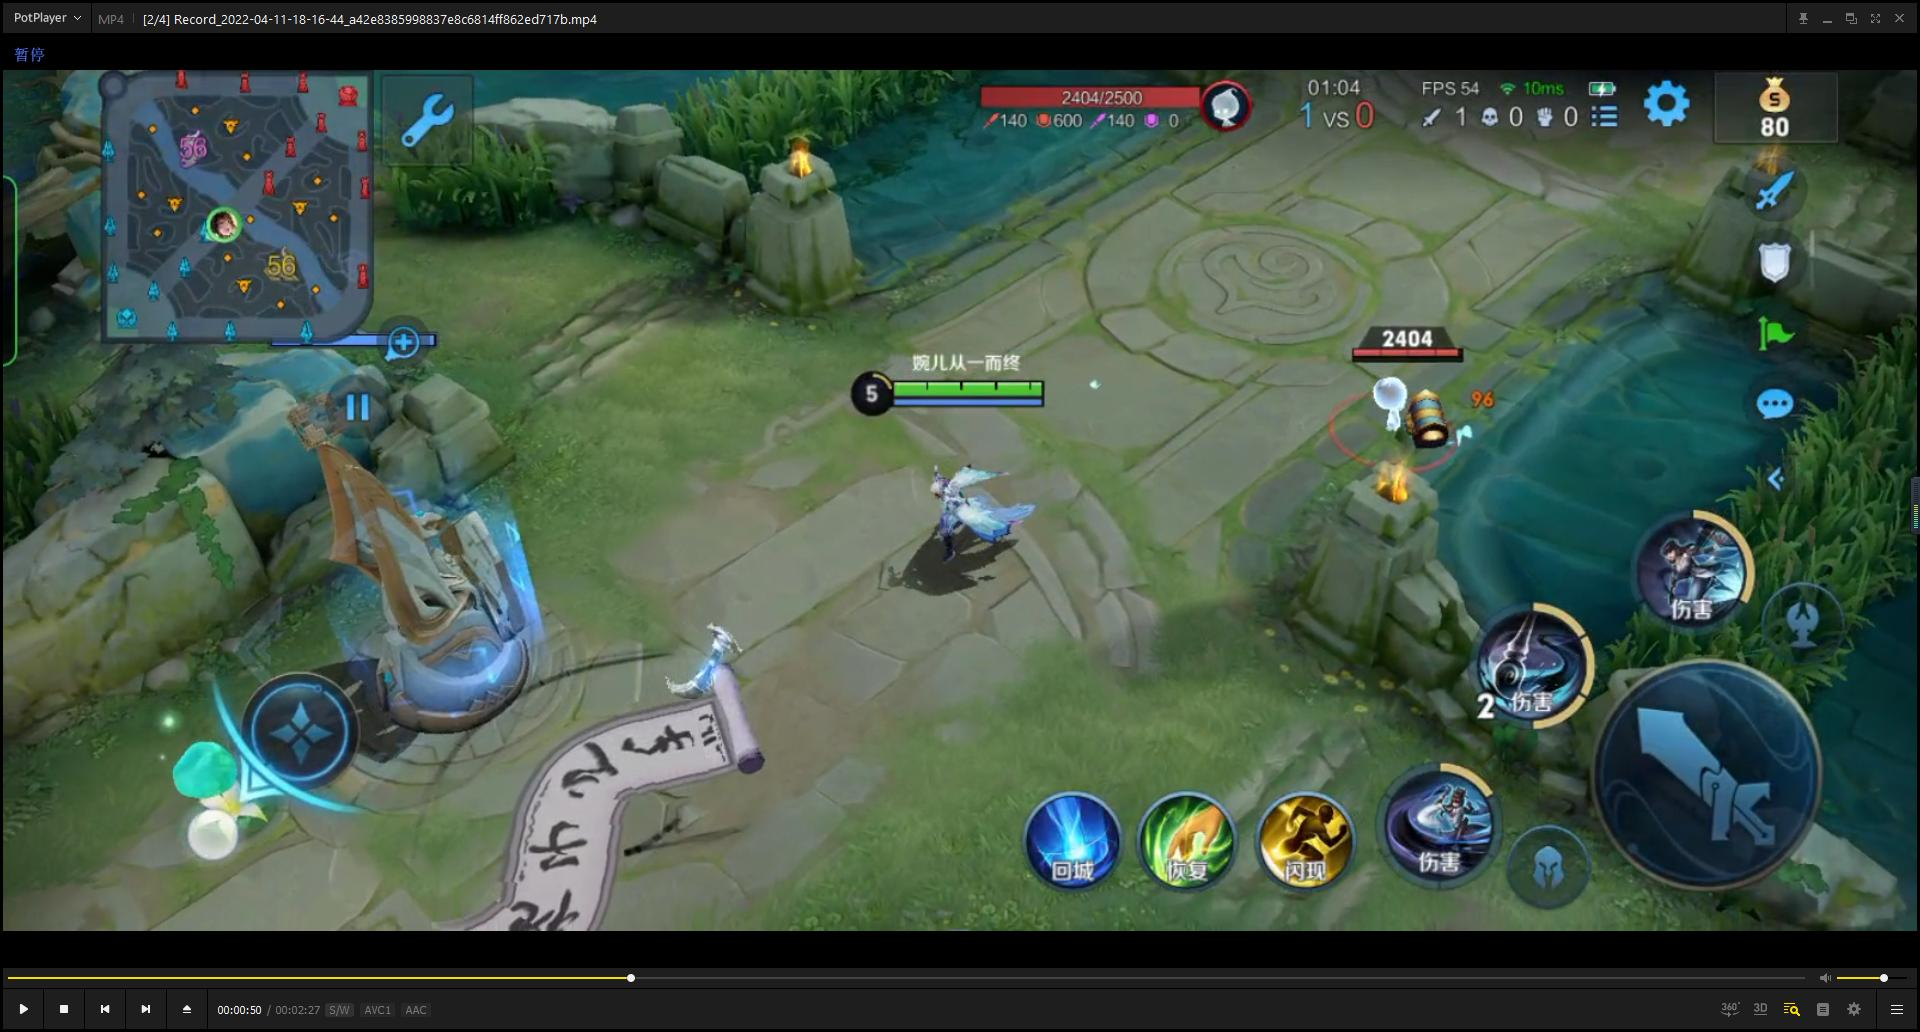Hero: (886, 459, 1094, 608)
Spirit: (1316, 286, 1491, 491)
Tower: (247, 305, 578, 821)
